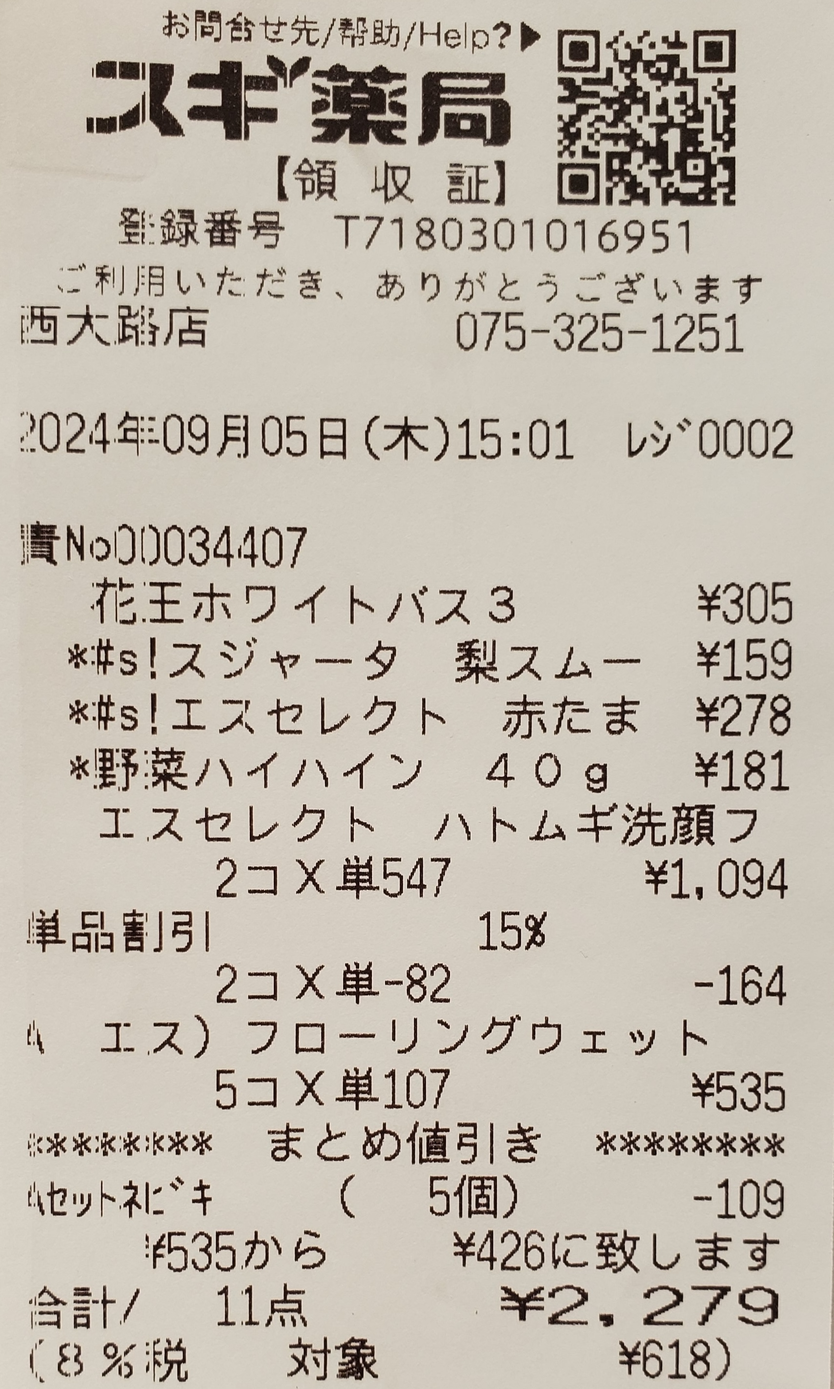Date: (16, 399, 365, 474)
Shopname: (81, 45, 534, 153)
Telnum: (445, 309, 762, 366)
Totalpay: (11, 1274, 816, 1342)
